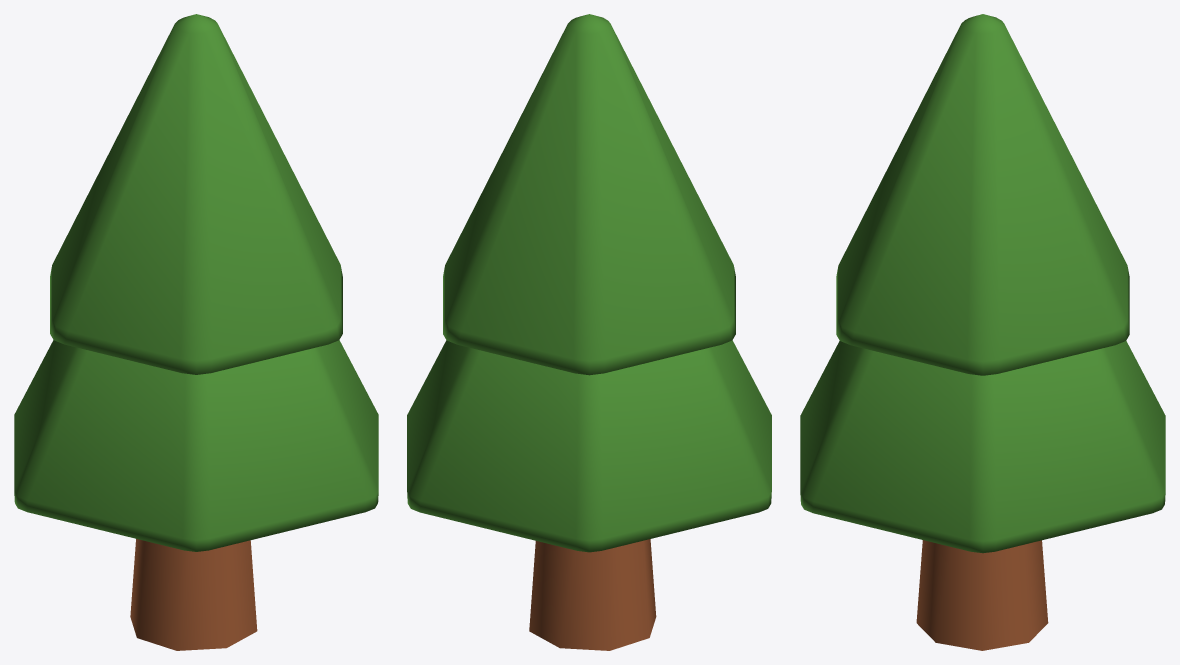
Rendered from Pine_Tree_02.fbx.
3 renders of one model, left to right at view 1: azimuth 30°, elevation 25°; view 2: azimuth 150°, elevation 25°; view 3: azimuth 270°, elevation 25°, orthographic.
Visible parts, largest first — view 1: Pine_Tree_02; view 2: Pine_Tree_02; view 3: Pine_Tree_02.
Boxes of the visible parts, x1,y1,x2,y2 form: Pine_Tree_02: (14,14,378,650); Pine_Tree_02: (407,14,771,650); Pine_Tree_02: (800,14,1165,650).
Size of the model in its own units: 1296 by 2109 by 1144.
